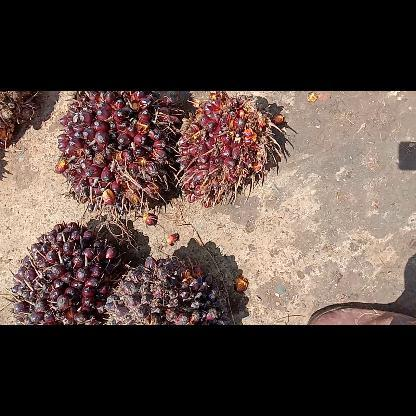Kurang masak: (54, 91, 184, 235), (176, 91, 283, 209), (0, 224, 124, 324), (104, 256, 228, 324)
